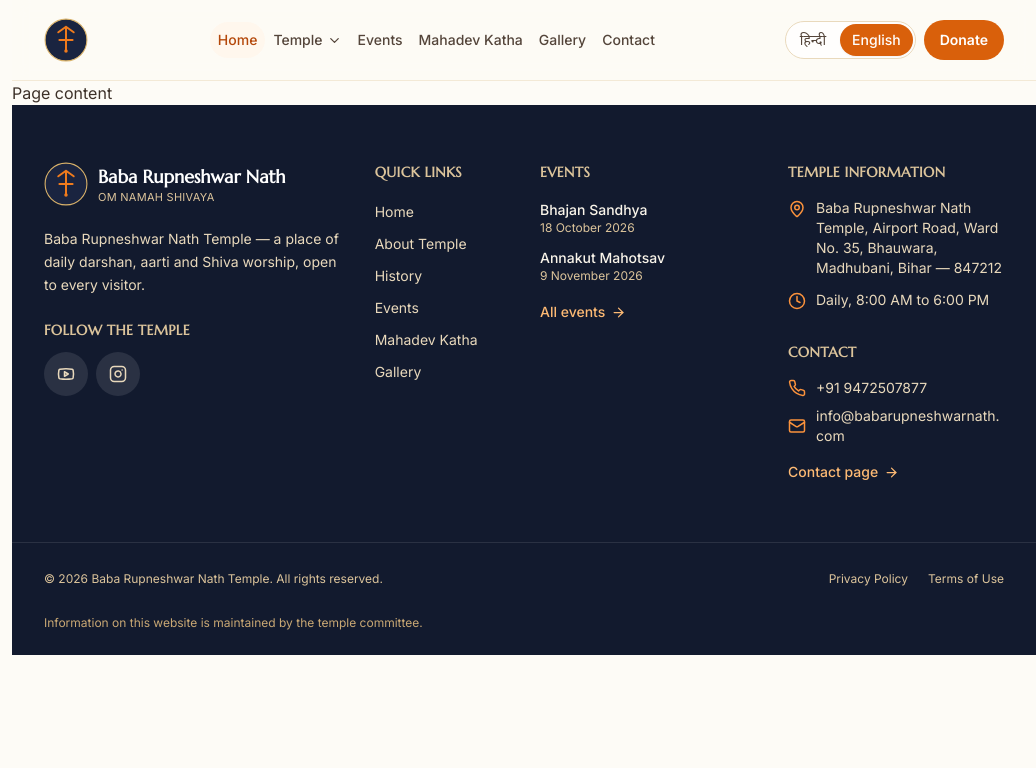
Header — desktop Temple disclosure › closes when focus tabs past the last link
Click the button "Temple" at (307, 40), box top-left (265, 22), bottom-right (350, 58)
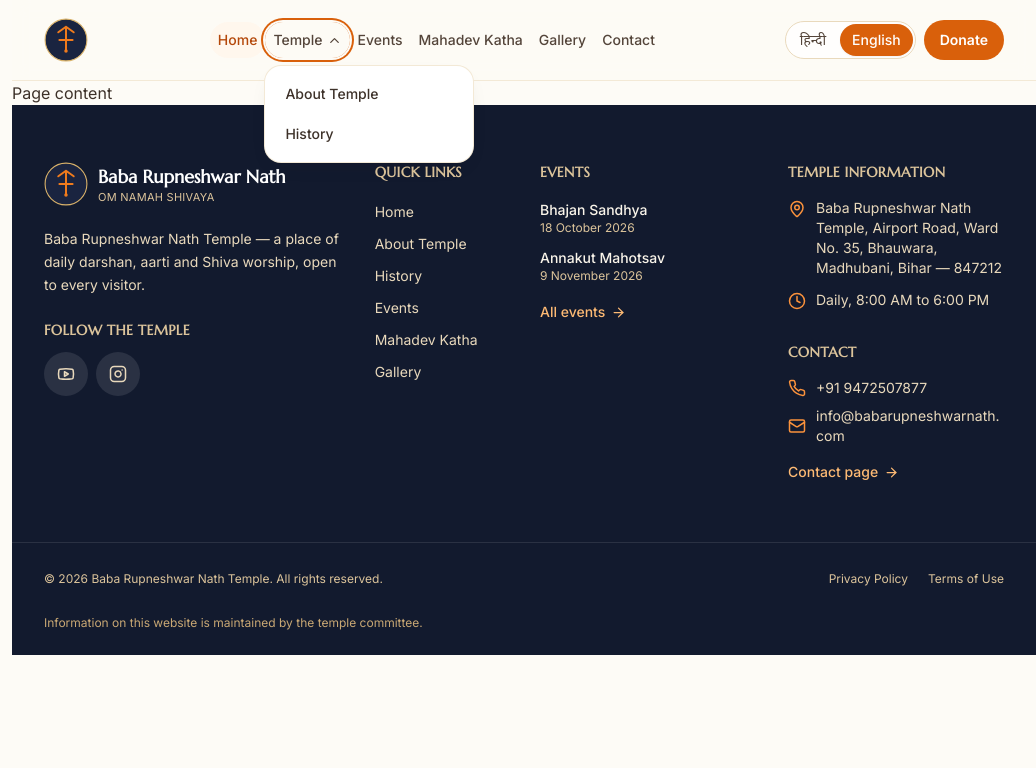
Press Tab
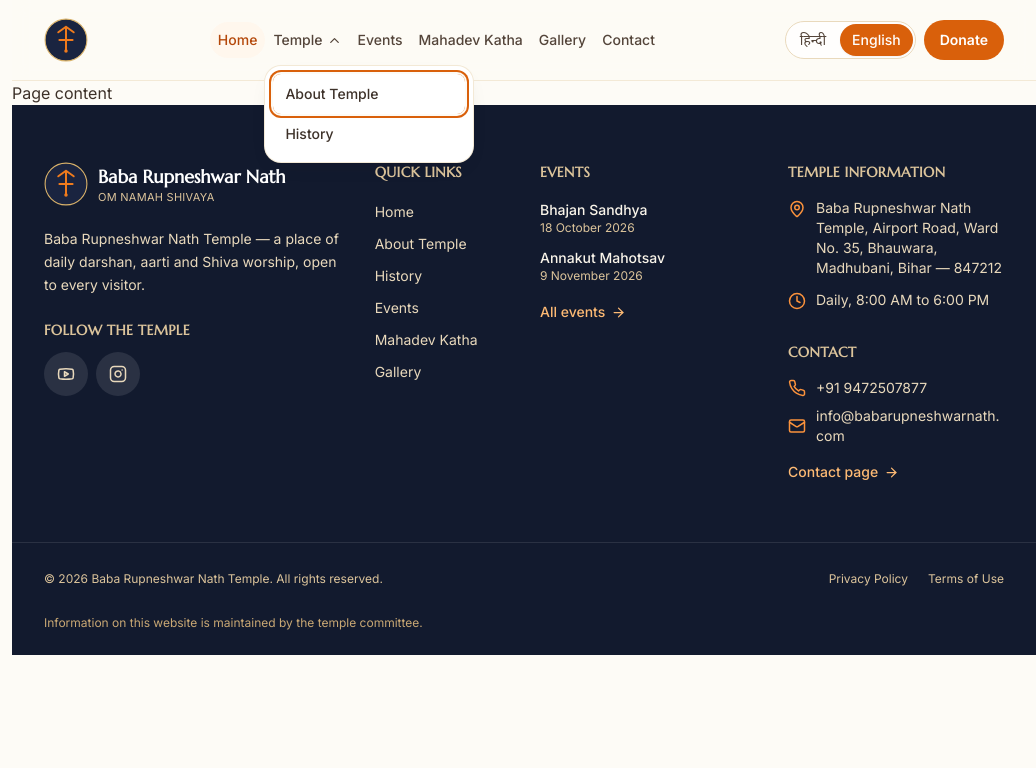
Press Tab
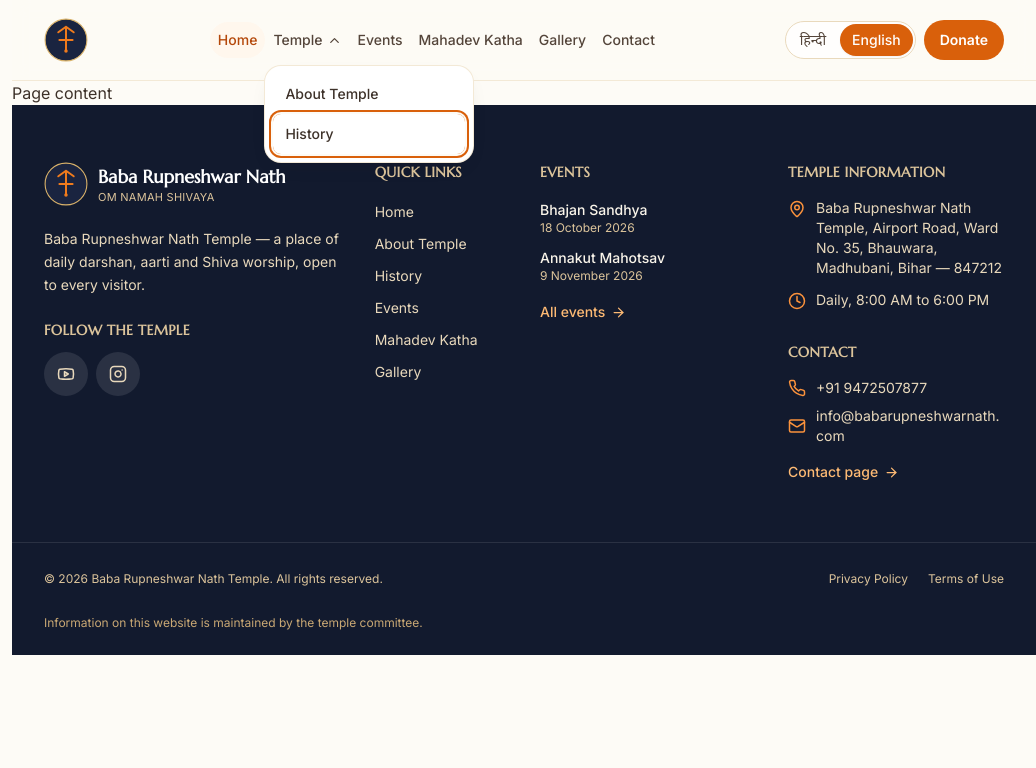
Press Tab
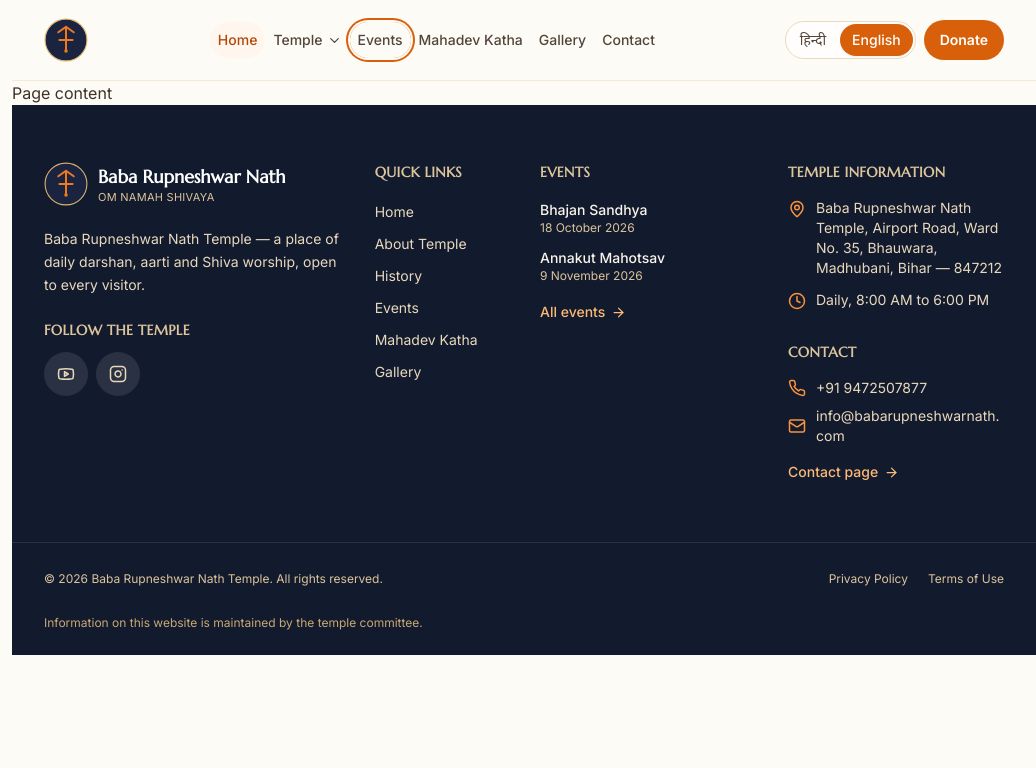
Now the button "Temple" is collapsed, box top-left (265, 22), bottom-right (350, 58)
